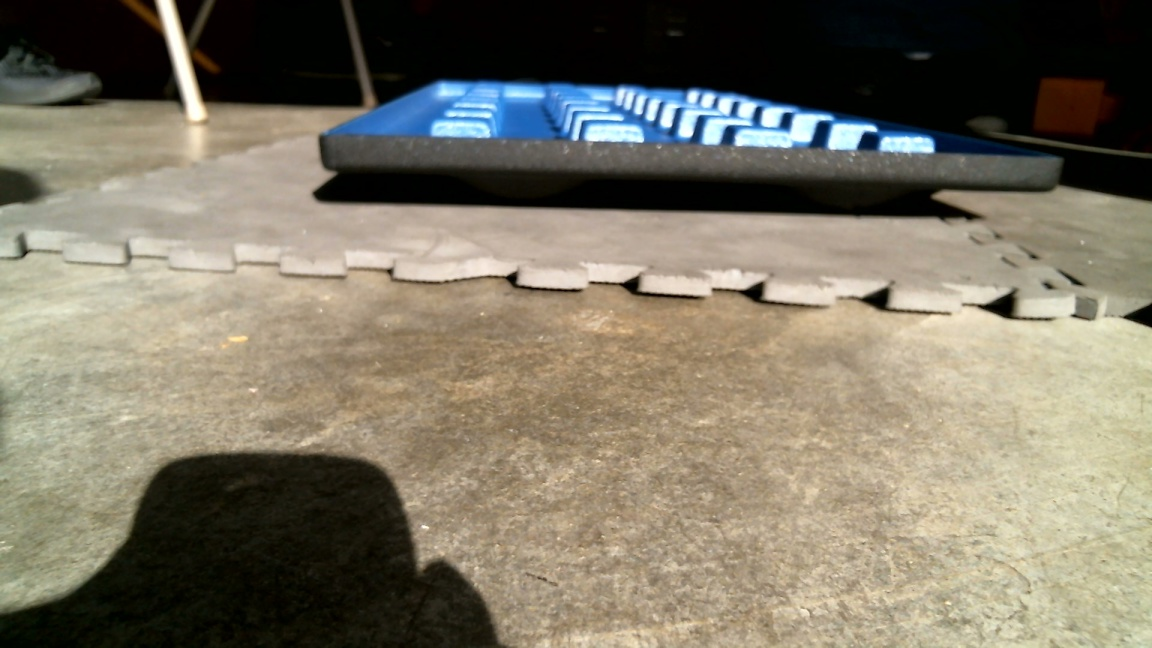blue_foundation: (314, 78, 1067, 222)
